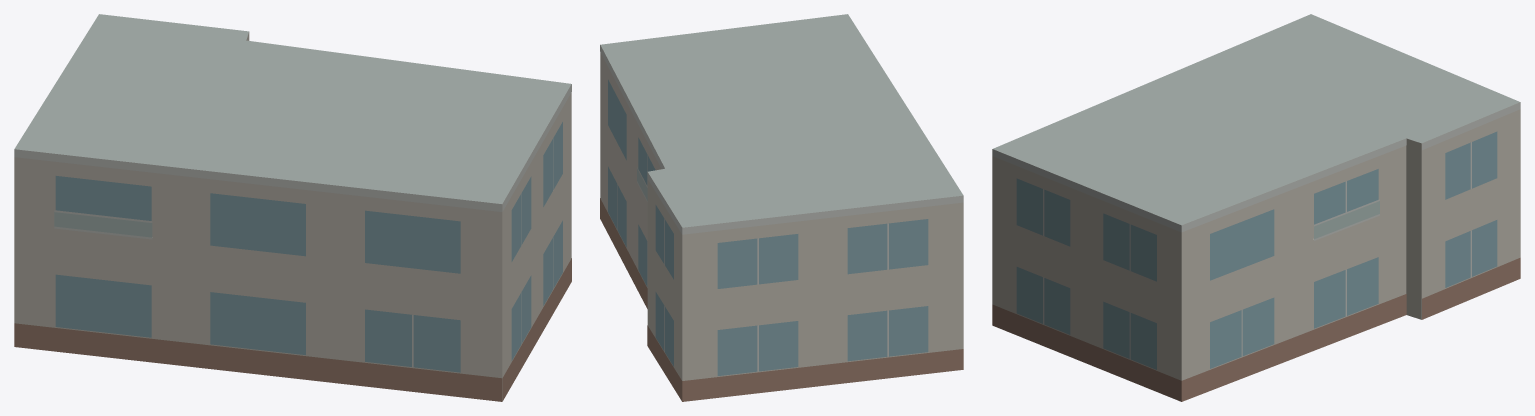
Rendered from survey-upis-32958032.glb.
The picture shows the model from 3 angles, left to right: view 1: azimuth 30°, elevation 25°; view 2: azimuth 150°, elevation 25°; view 3: azimuth 270°, elevation 25°; orthographic projection. The views are drawn at different scales.
Parts seen in each view (by area): view 1: survey-upis-32958032.tmp; view 2: survey-upis-32958032.tmp; view 3: survey-upis-32958032.tmp.
Part boxes in pixels (box(x1,y1,x2,y2)): survey-upis-32958032.tmp: box(14, 14, 571, 401); survey-upis-32958032.tmp: box(600, 14, 963, 401); survey-upis-32958032.tmp: box(992, 14, 1520, 401).
Bounding box in the file's own units: 15.67 × 6.1 × 16.55.
